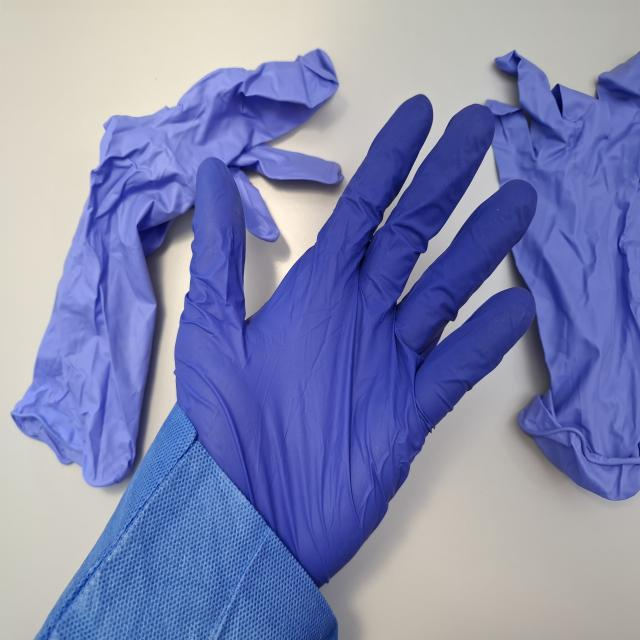glove_on: (168, 89, 542, 597)
